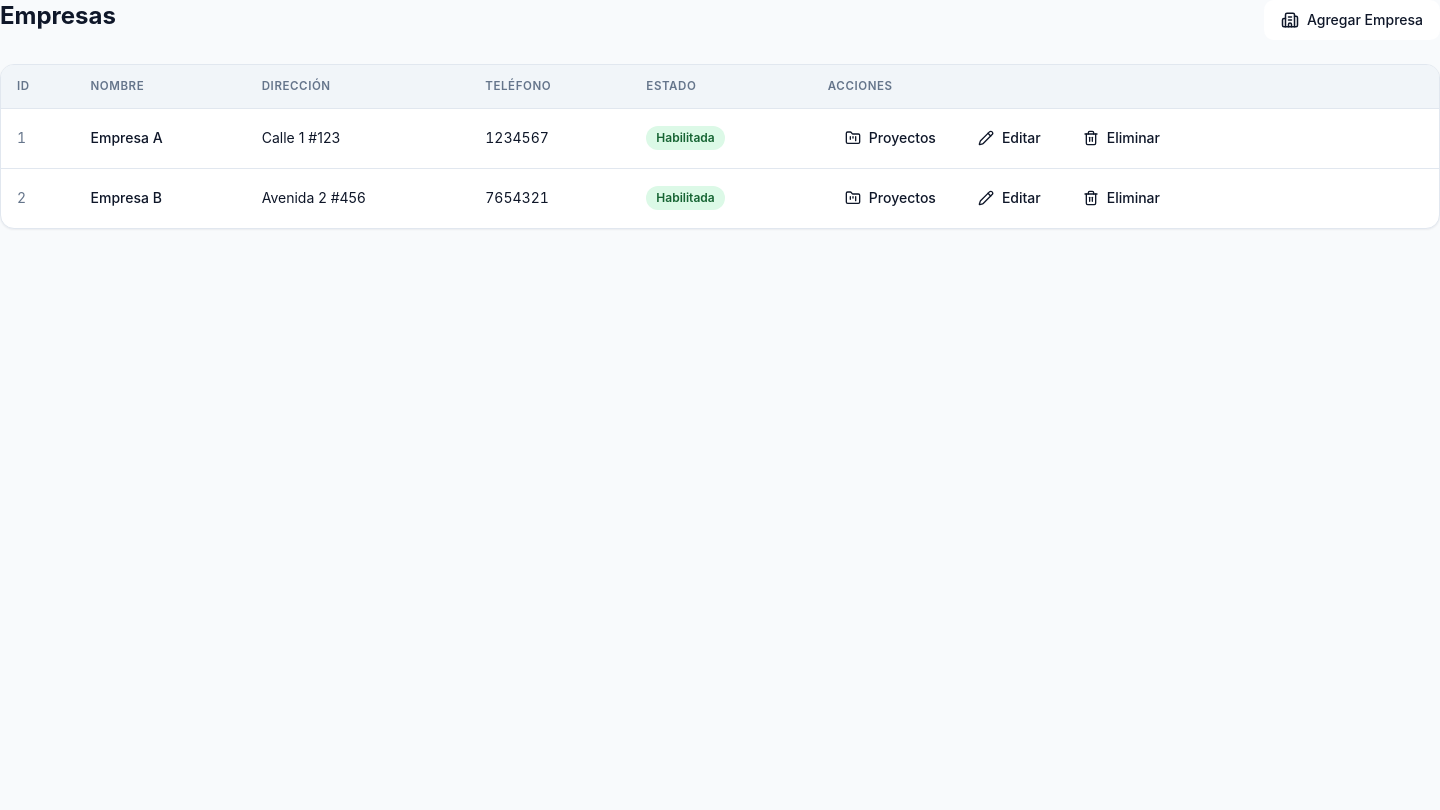
Test: EmpresasPage Integration Tests › Error flow › should keep modal open with error message when server returns 500 error
Expected: the text "Empresa A" is shown, 74,108 -> 246,168
# Open modal
Click the button "Agregar Empresa" at (1352, 20), box 1264,0 -> 1439,40
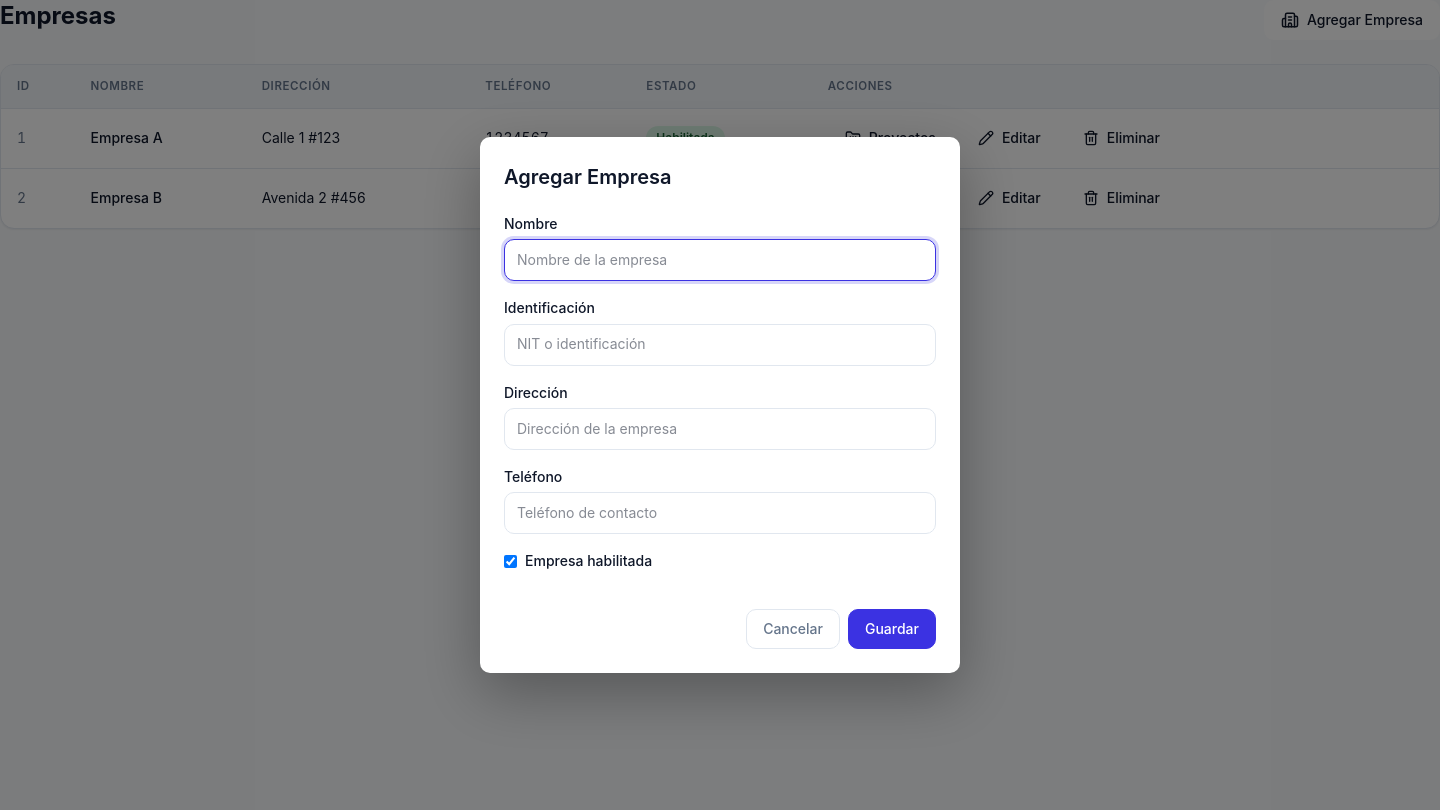
Expected: the dialog is shown, 480,137 -> 960,673
# Fill valid data
Type "Test Empresa" into the field labelled "Nombre" at (720, 260), box 504,239 -> 936,281
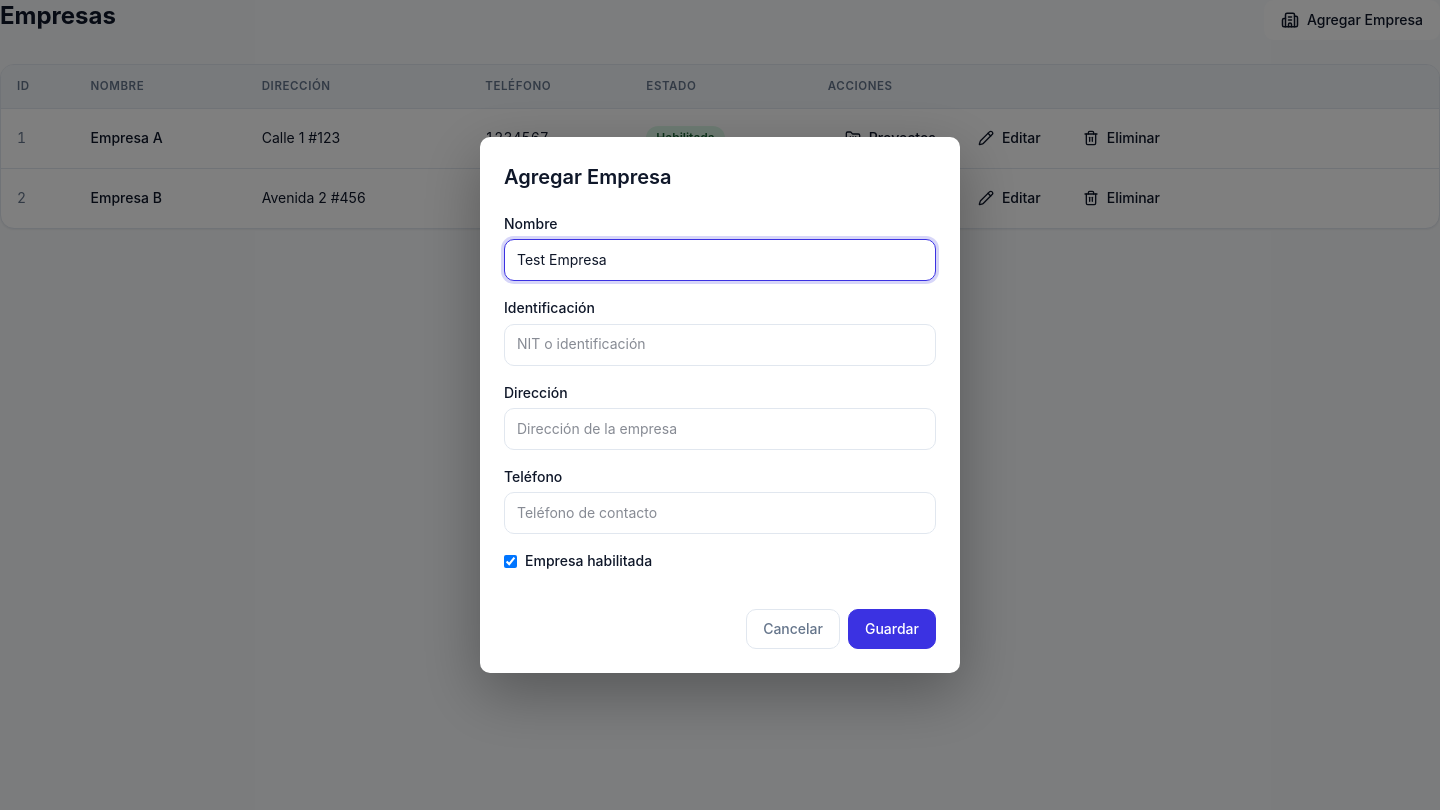
Type "NIT-500" into the field labelled "Identificación" at (720, 345), box 504,324 -> 936,366
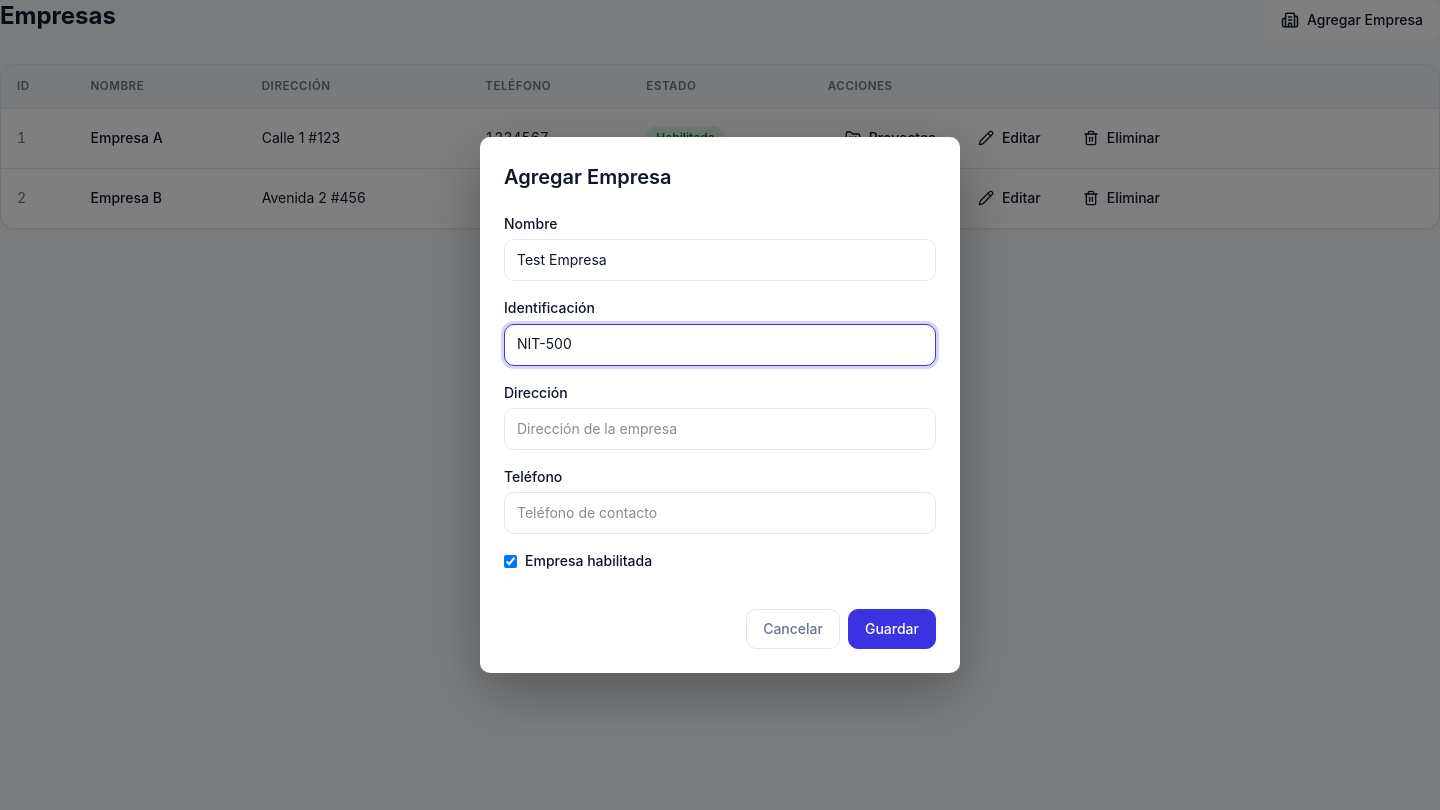
Type "Direccion de prueba" into the field labelled "Dirección" at (720, 429), box 504,408 -> 936,450
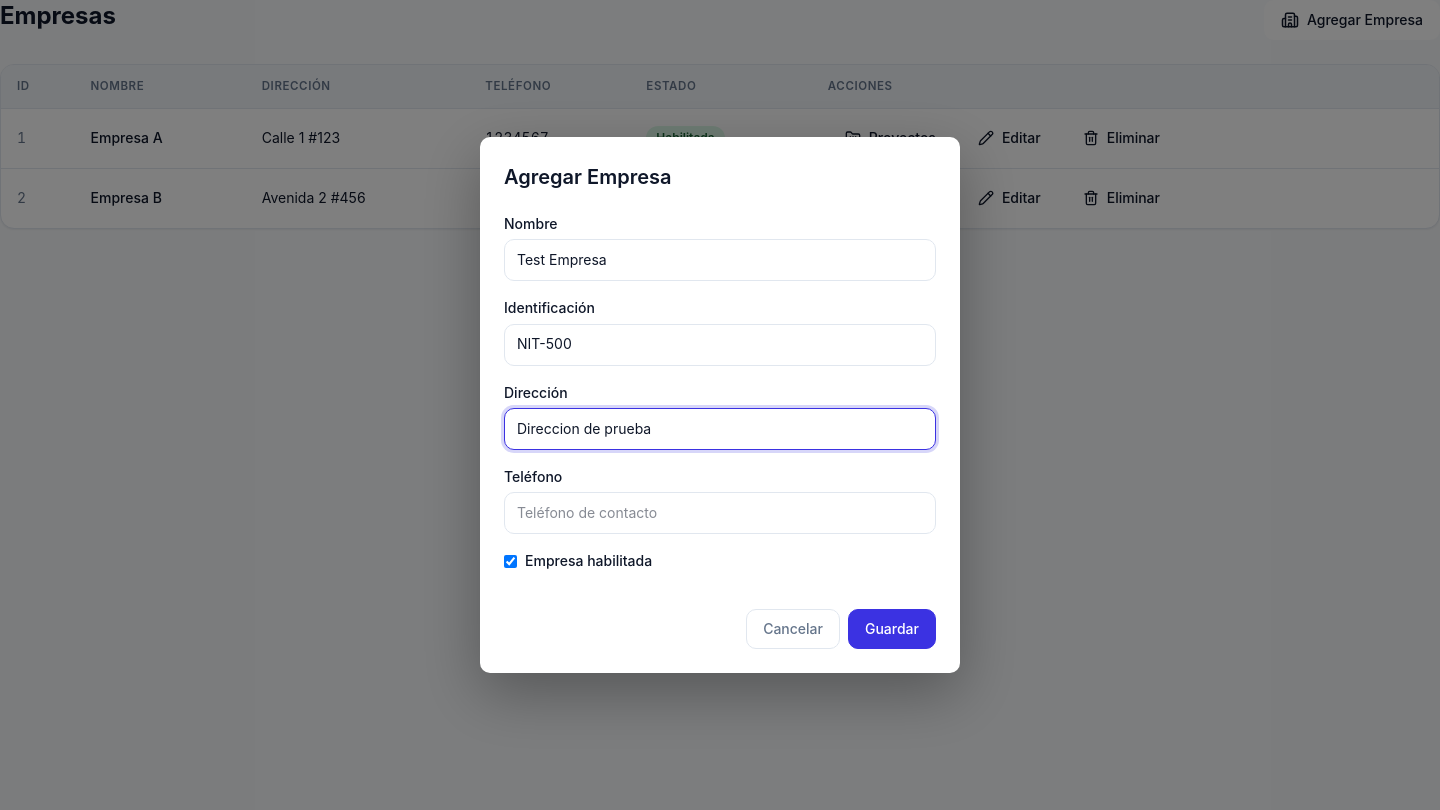
Type "1234567" into the field labelled "Teléfono" at (720, 513), box 504,492 -> 936,534
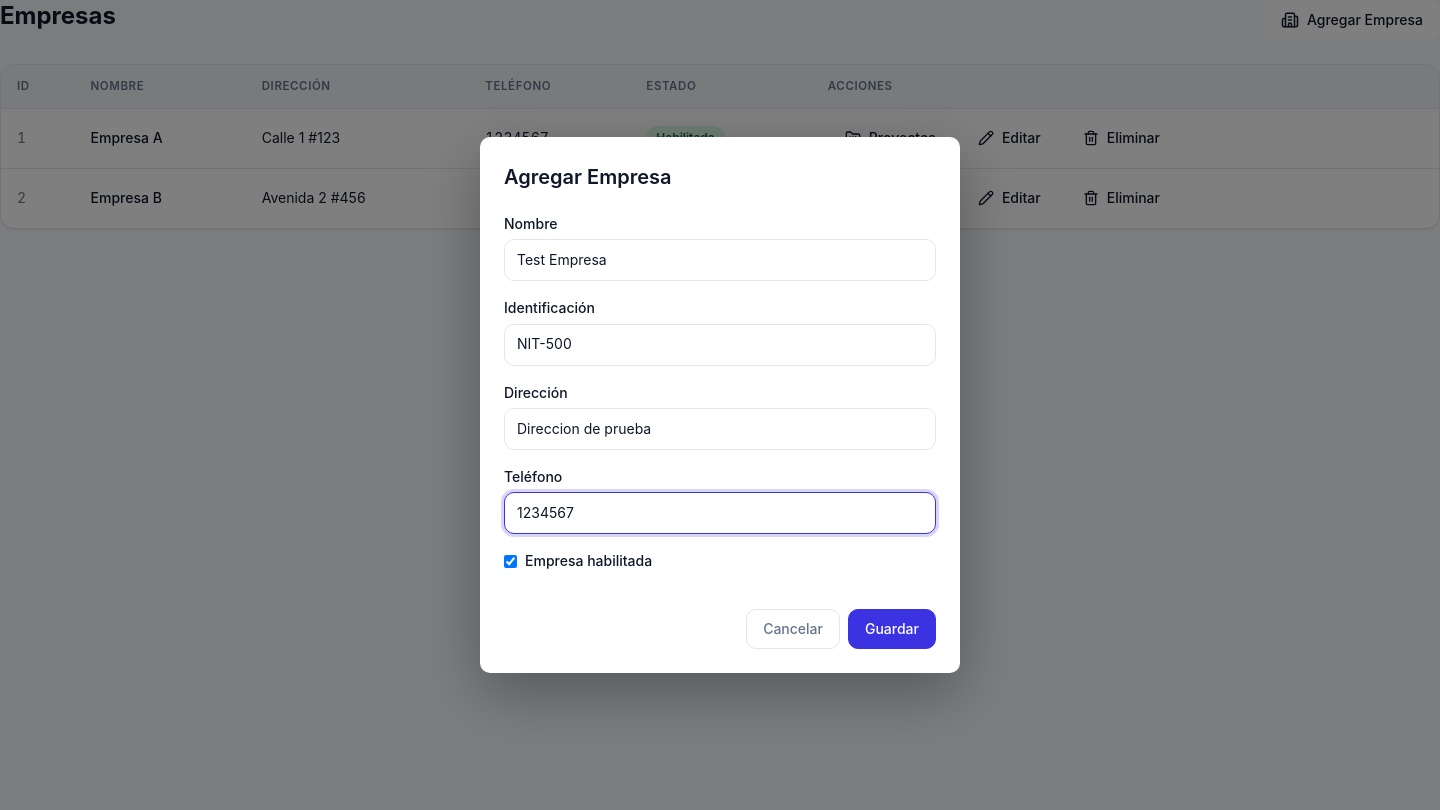
# Click "Guardar"
Click the button "Guardar" at (892, 629), box 848,609 -> 936,649
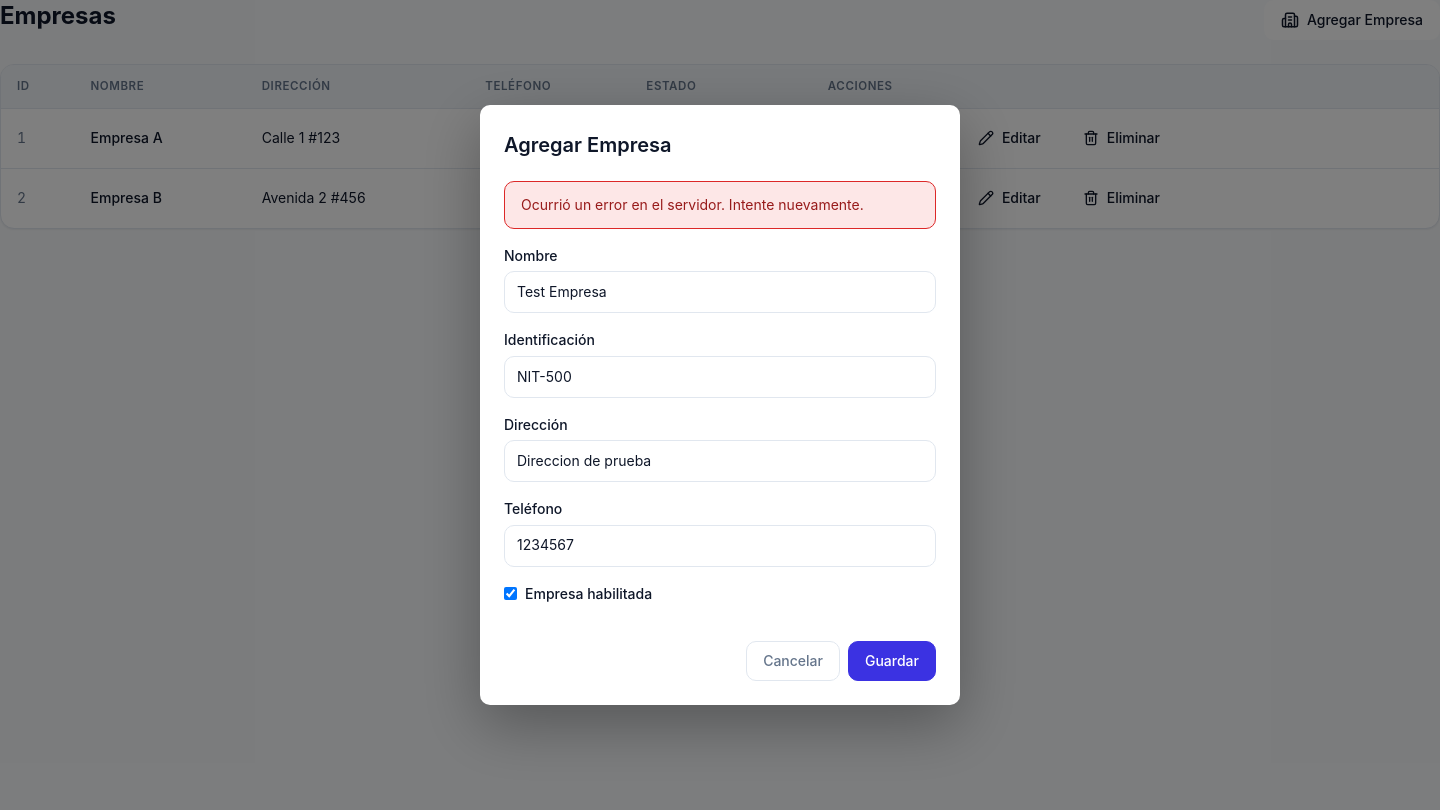
Expected: the dialog is shown, 480,105 -> 960,705
Expected: the text "Ocurrió un error en el servidor. Intente nuevamente." is shown, 504,181 -> 936,229
